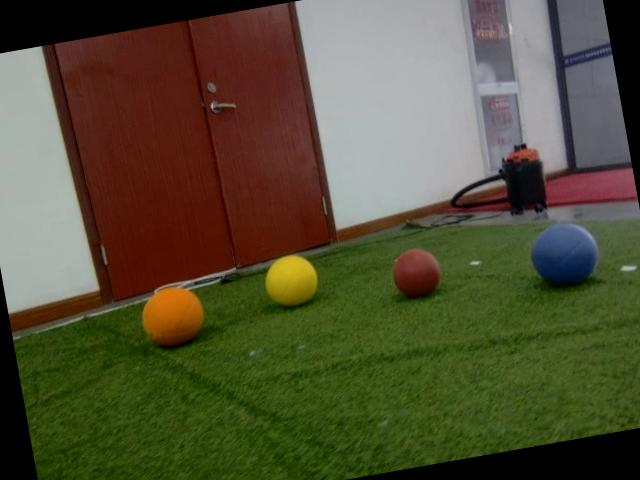blue_ball: (527, 218, 605, 292)
orange_ball: (138, 282, 210, 350)
red_ball: (390, 244, 446, 300)
yellow_ball: (260, 248, 322, 310)
